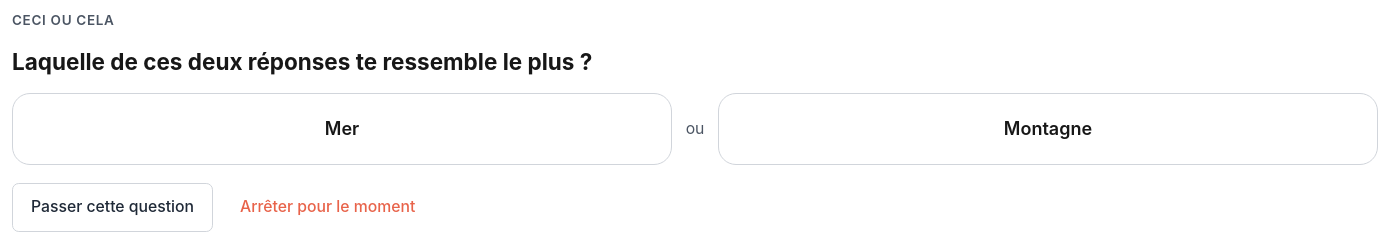
Test case: <ThisOrThat /> › passer n’enregistre rien
Click the button "Passer cette question": (113, 208) [12,183,213,232]
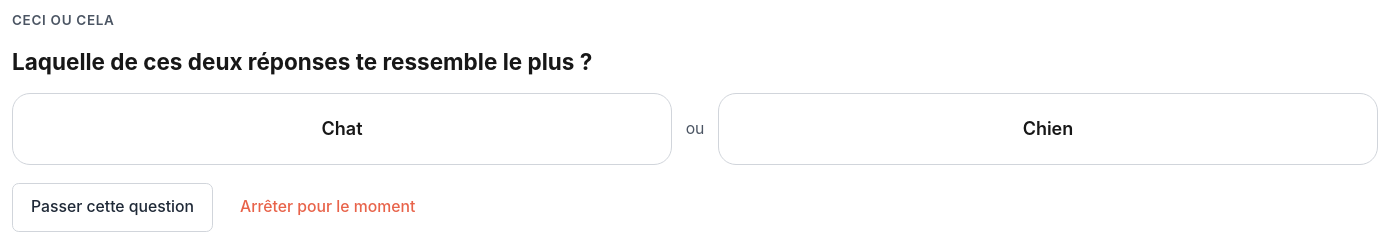
Expected: the element named "Chat ou chien" is shown, [12,93,1378,165]
